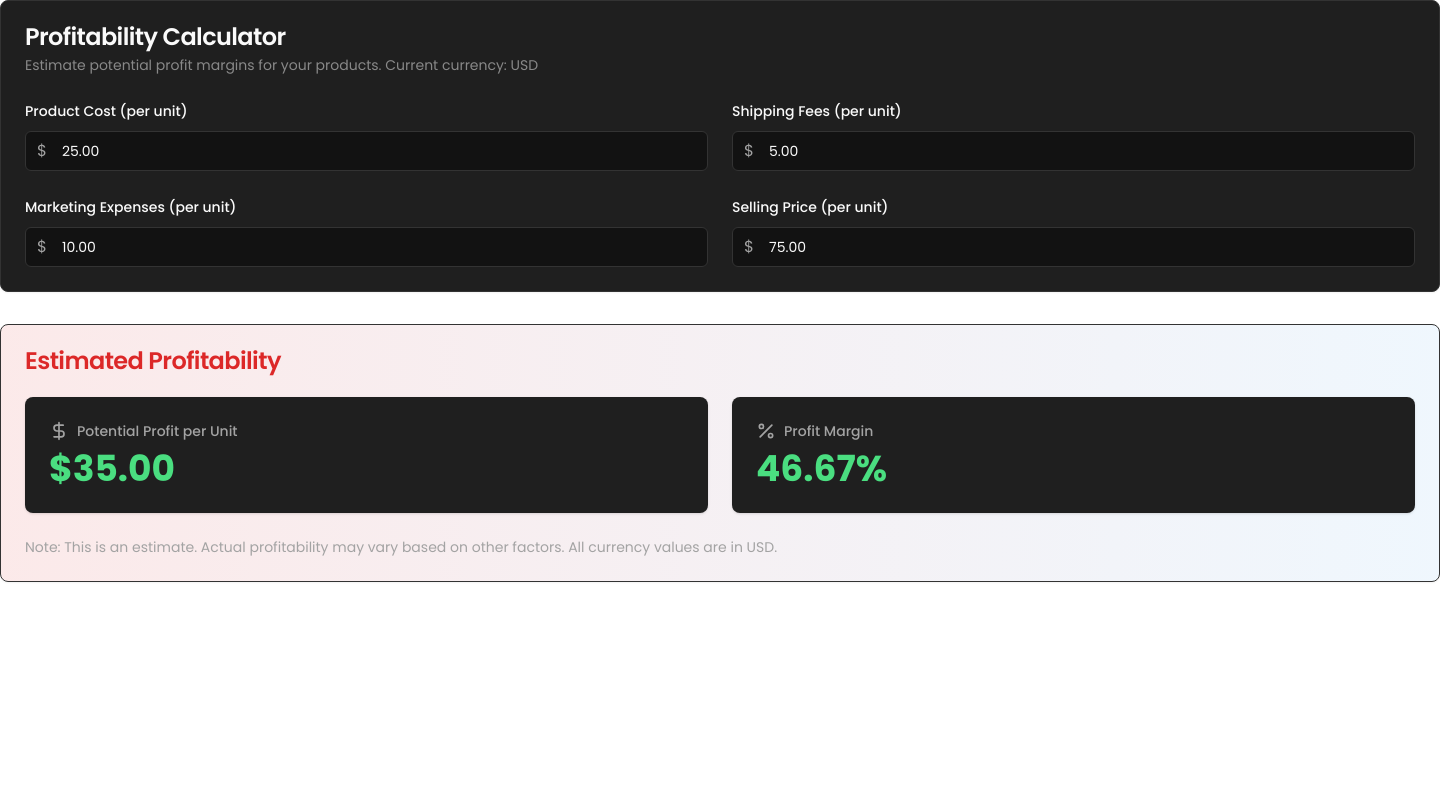
Test: ProfitabilityCalculator › updates calculations when input values change
The width and height of the screenshot is (1440, 810).
# Clear existing value and type new value
Replace the text in the number field labelled "Selling Price (per unit)" with "100" at [1074, 247], box top-left (732, 227), bottom-right (1415, 267)
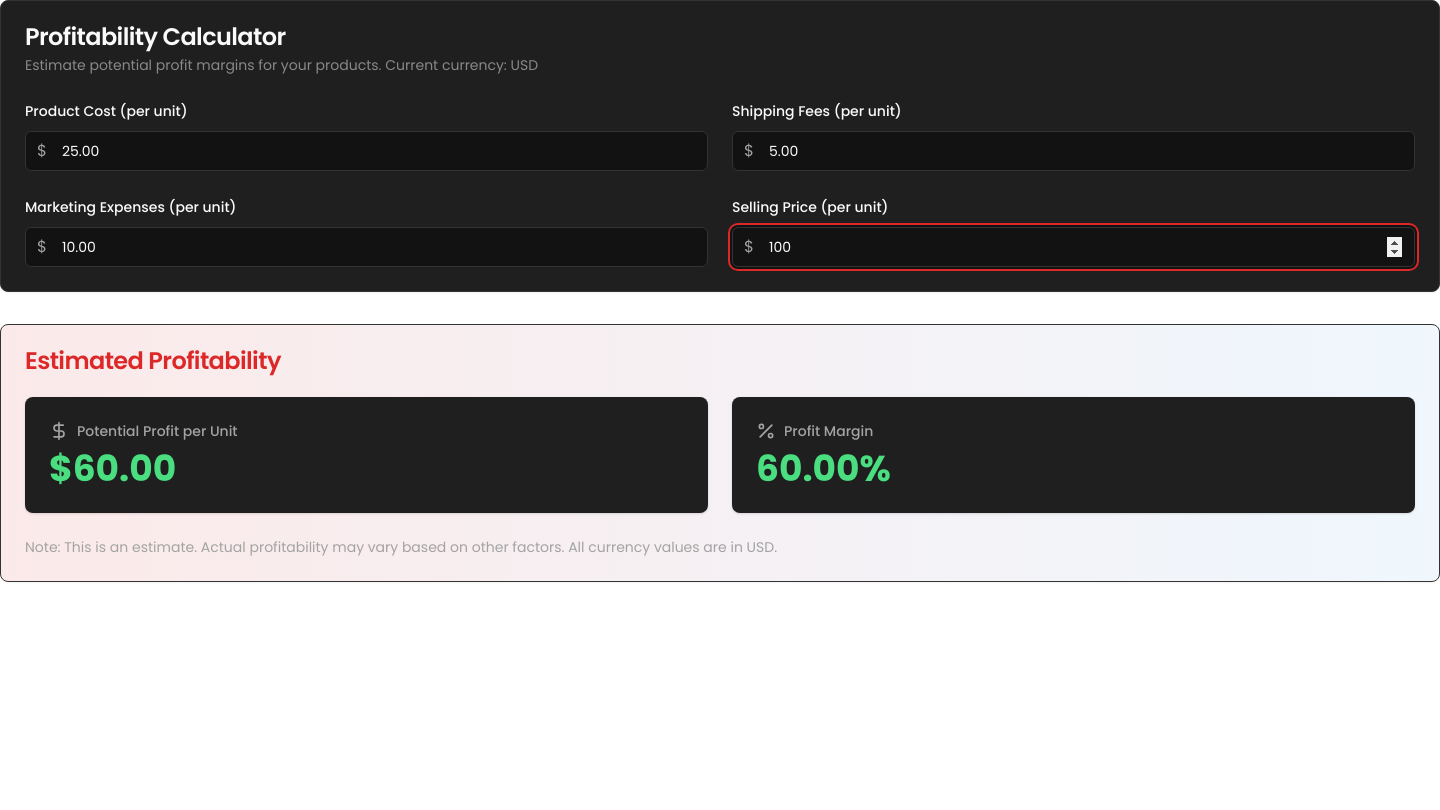
Check: the text "$60.00" is shown, box top-left (49, 443), bottom-right (176, 494)
Check: the text "60.00%" is shown, box top-left (756, 443), bottom-right (891, 494)
Replace the text in the number field labelled "Product Cost (per unit)" with "30" at [366, 151], box top-left (25, 131), bottom-right (708, 171)
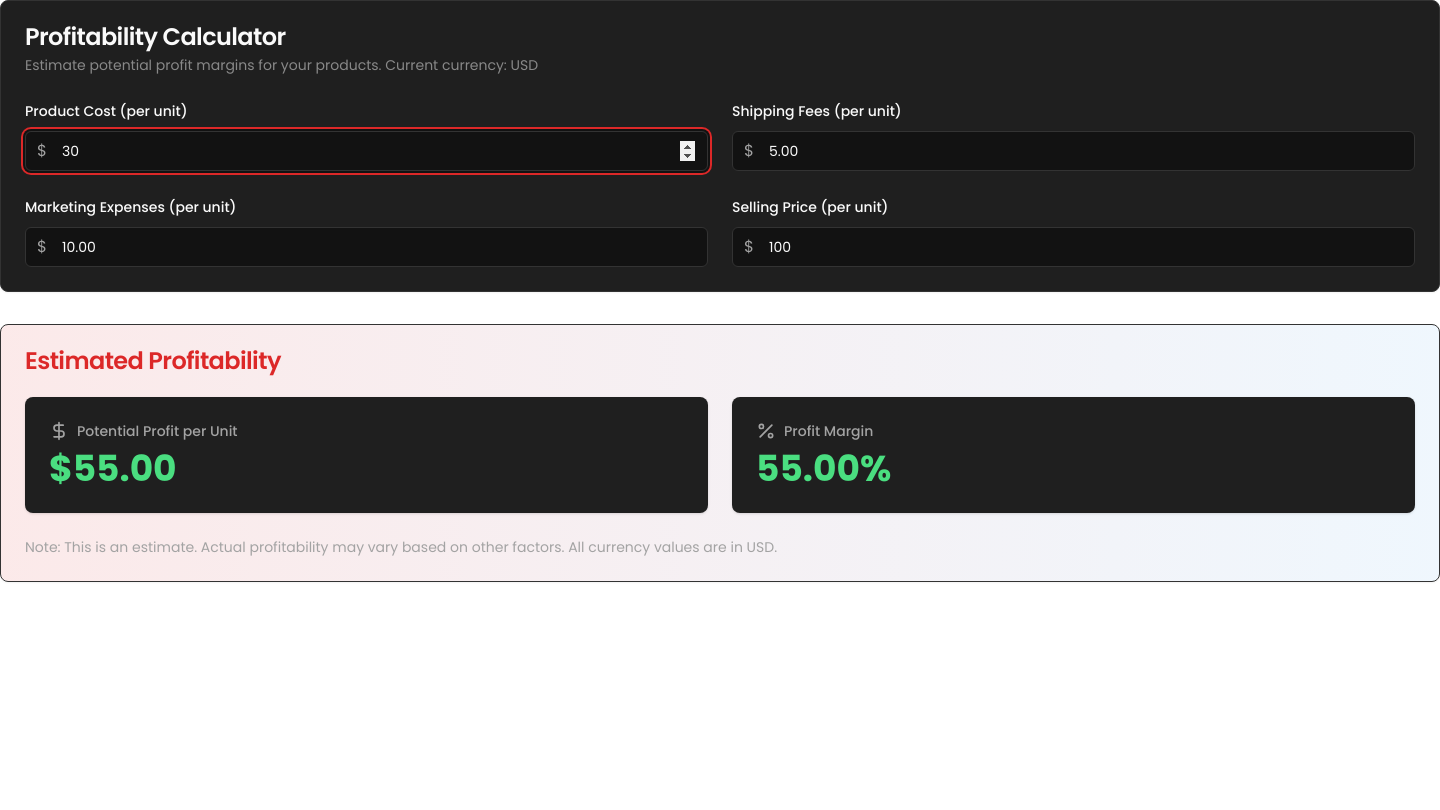
Check: the text "$55.00" is shown, box top-left (49, 443), bottom-right (177, 494)
Check: the text "55.00%" is shown, box top-left (756, 443), bottom-right (891, 494)
